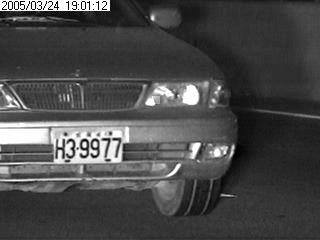plate: (52, 129, 123, 164)
